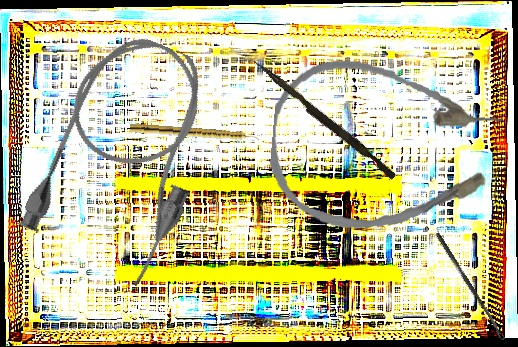Cannula: (13, 20, 238, 292), (265, 54, 507, 241)
Handpiece: (129, 123, 260, 144)
Pusher: (247, 57, 400, 181)
Surgical Spoon: (434, 231, 506, 342)
